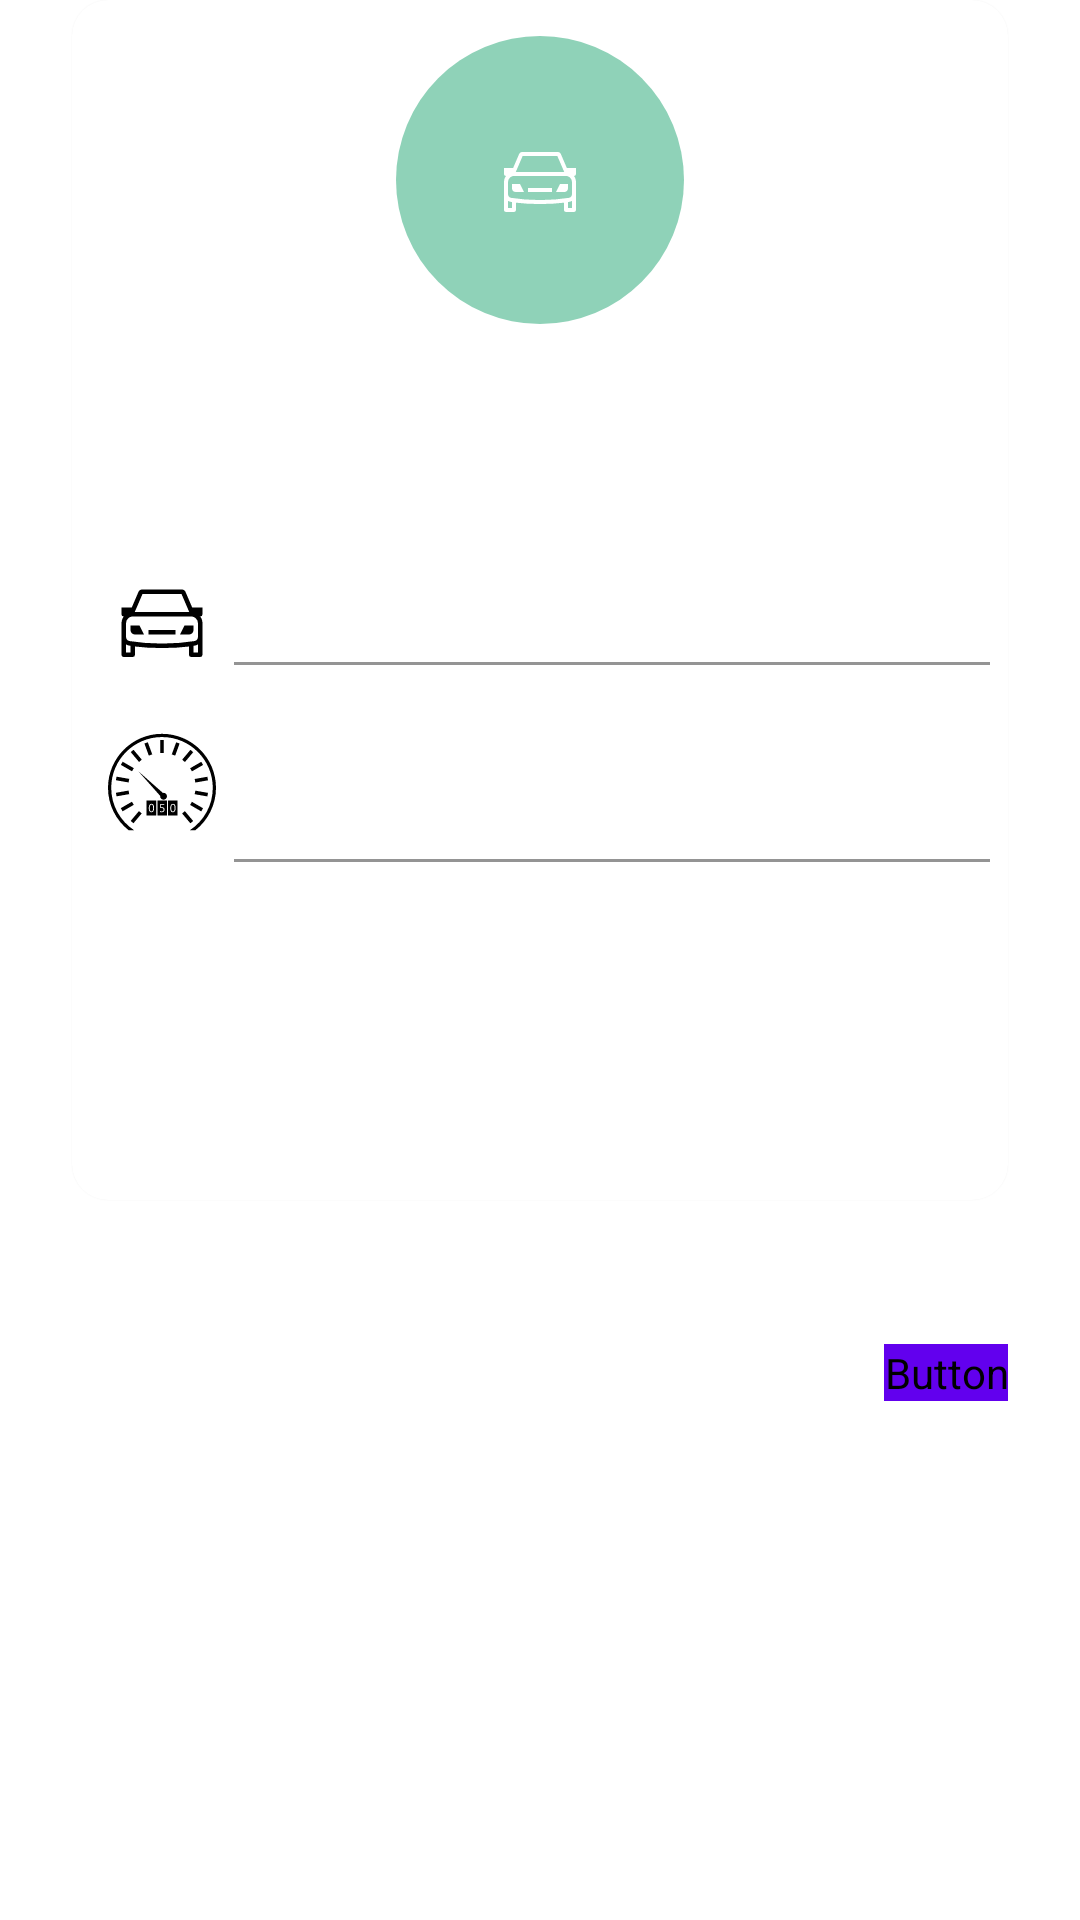

Named icons in this screenshot (1080w x 1920h) and their centers, point (x, y):
odometer: point (162, 782)
